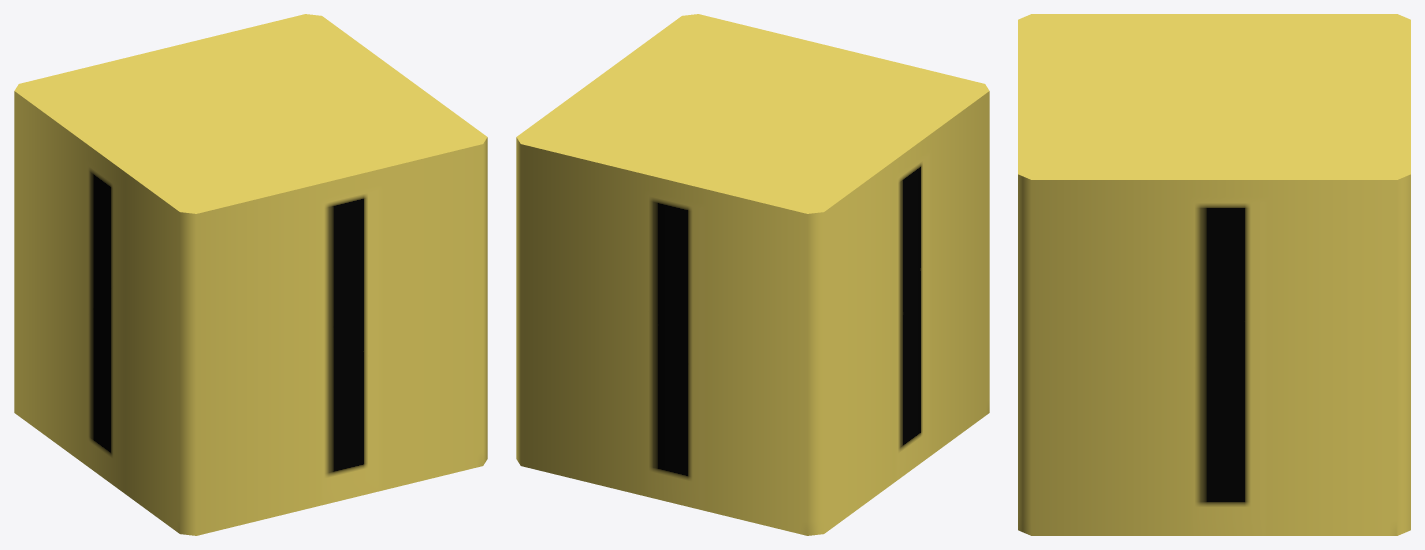
The model's file is blockI.dae.
The picture shows the model from 3 angles, left to right: view 1: azimuth 30°, elevation 25°; view 2: azimuth 150°, elevation 25°; view 3: azimuth 270°, elevation 25°; orthographic projection. The views are drawn at different scales.
Visible parts, largest first — view 1: pCube9; view 2: pCube9; view 3: pCube9.
Part boxes in pixels (left/top/right/bottom): pCube9: left=14, top=14, right=487, bottom=535; pCube9: left=516, top=14, right=989, bottom=535; pCube9: left=1018, top=14, right=1410, bottom=535.
Bounding box in the file's own units: 0.4263 × 0.4263 × 0.4263.
Materials: 1 (1 with a texture image).
